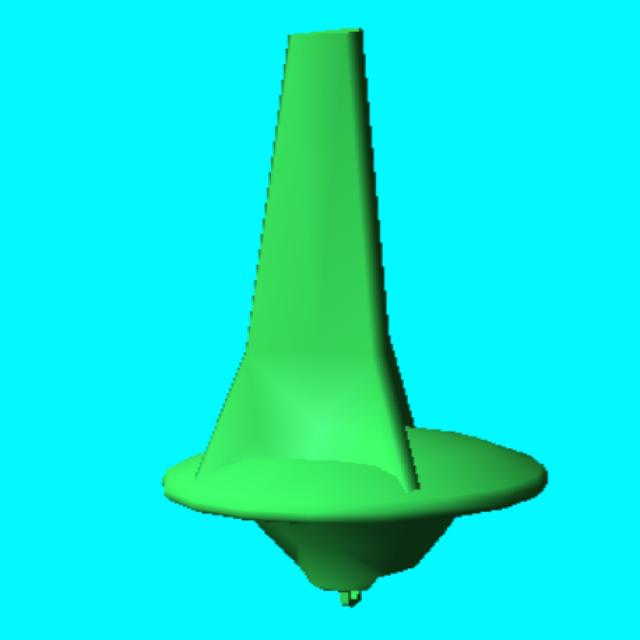GreenBuoy: (164, 30, 547, 606)
